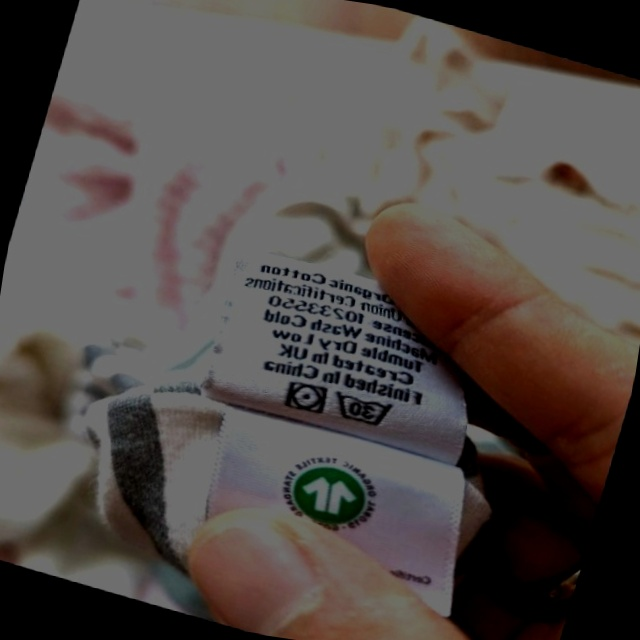30C: (326, 383, 401, 436)
tumble_dry_low: (279, 374, 333, 421)
